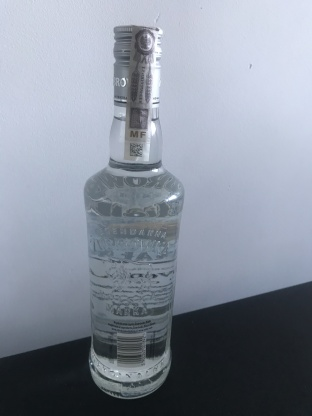nakretka: (111, 19, 165, 110)
